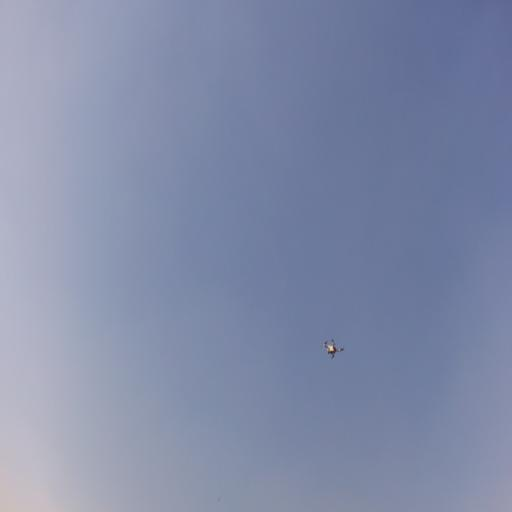drones: (321, 338, 346, 362)
